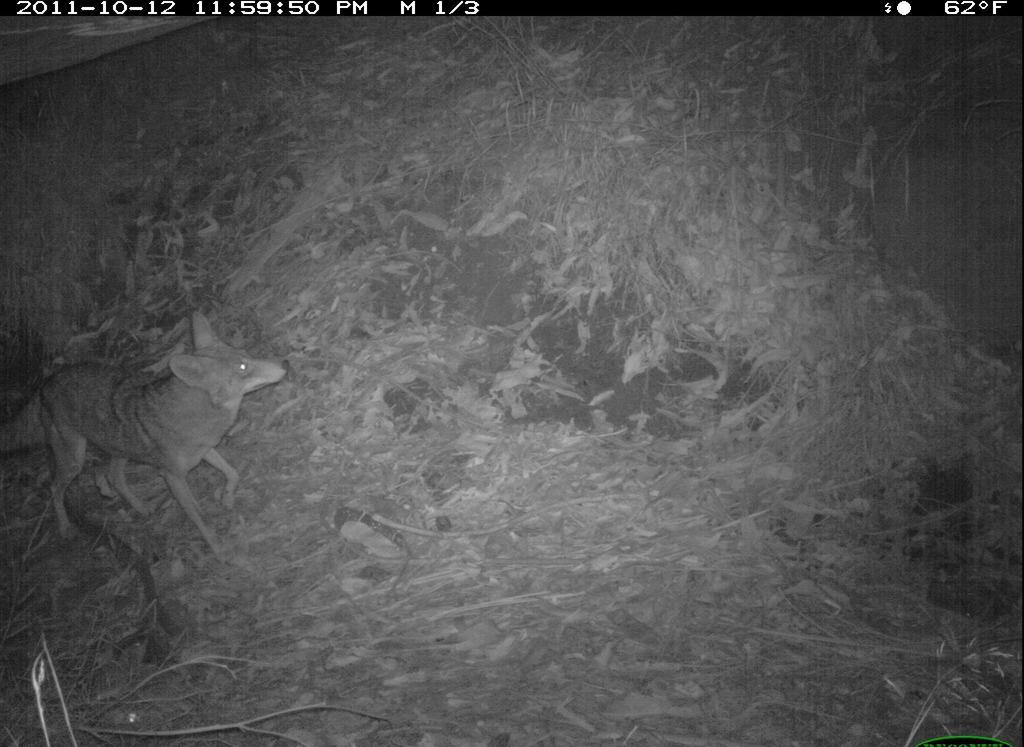coyote: (25, 308, 300, 565)
